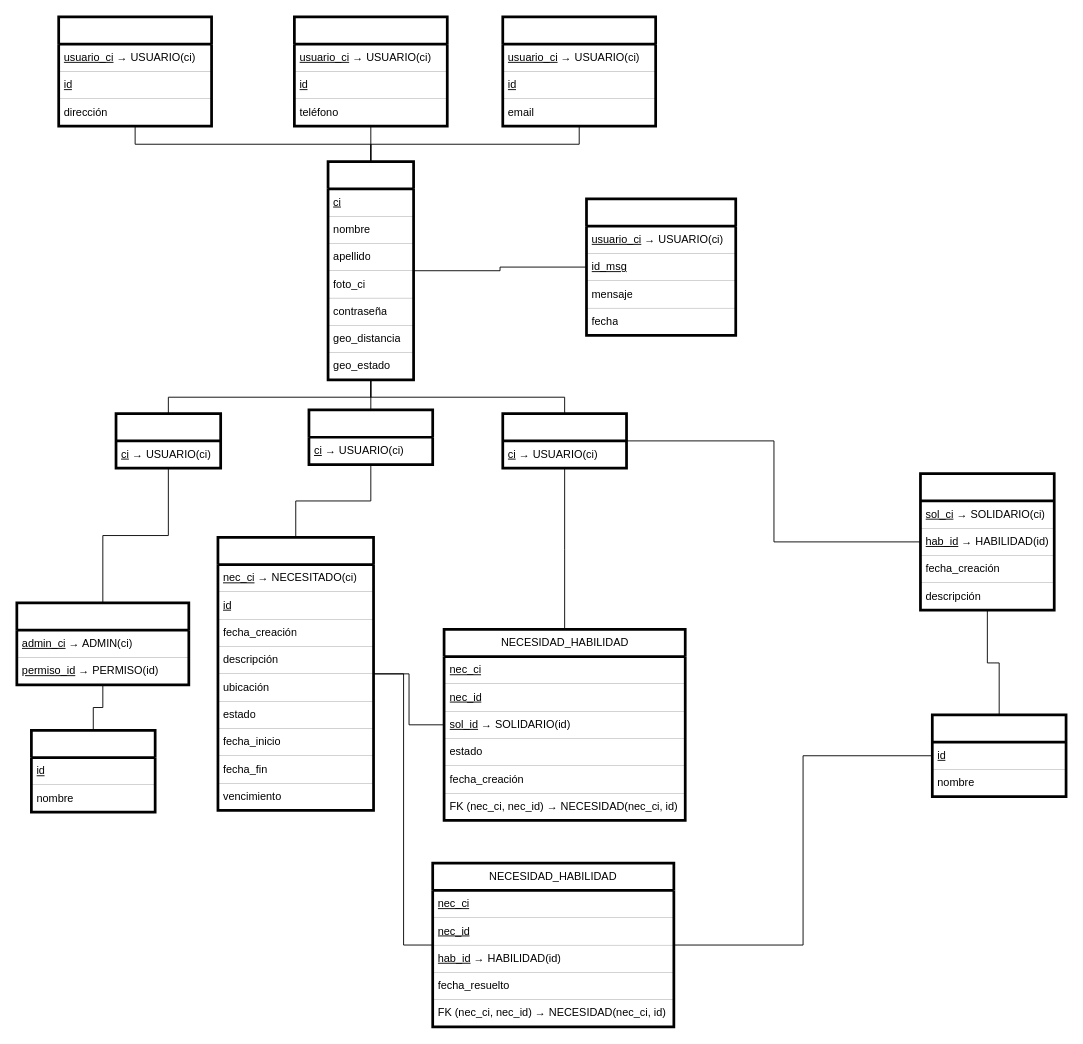
This 1083x1044 diagram has some shape labels left out. The shapes that lost their labels are listed below. From the top down, each one's box as (x1, y1, x2, y2) in pixels, then its label:
(57, 15, 212, 127): USUARIO_DIRECCIÓN
(293, 15, 448, 127): USUARIO_TEL
(501, 15, 657, 127): USUARIO_EMAIL
(326, 160, 415, 381): USUARIO
(585, 197, 737, 336): NOTIFICACIÓN
(114, 412, 222, 469): ADMIN
(307, 408, 434, 465): NECESITADO
(501, 412, 627, 469): SOLIDARIO
(919, 472, 1055, 611): SOLIDARIO_HABILIDAD
(15, 601, 190, 686): USUARIO_PERMISO
(216, 536, 374, 811): NECESIDAD
(30, 728, 156, 813): PERMISO
(930, 713, 1067, 798): HABILIDAD
